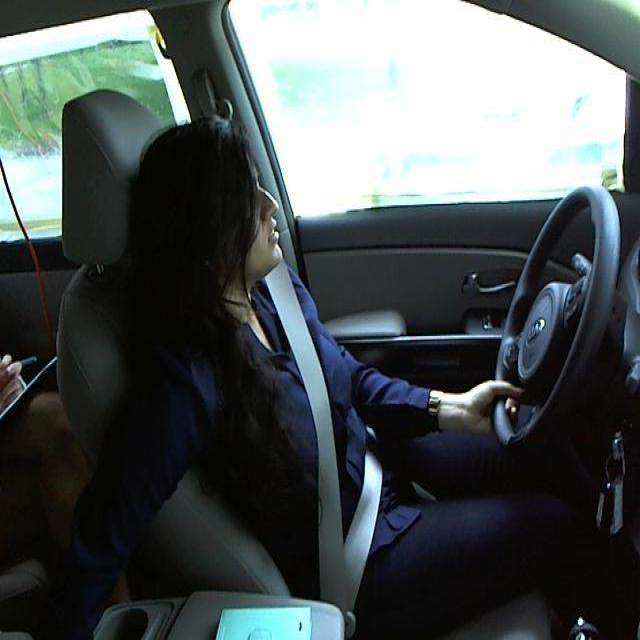seatbelt: (276, 308, 382, 601)
